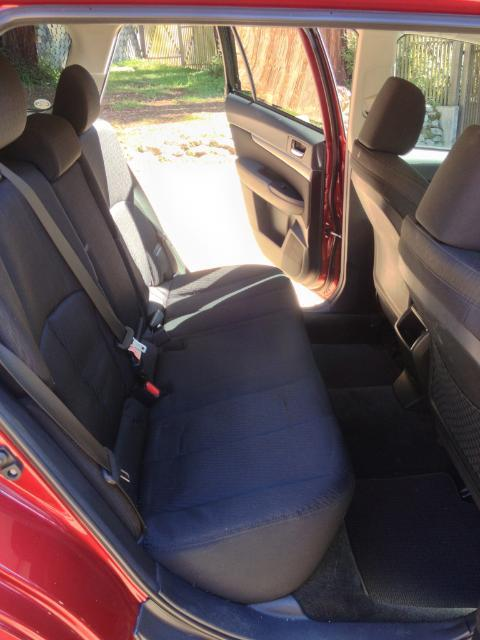Seatbelt: (0, 156, 148, 367), (0, 339, 138, 496)
